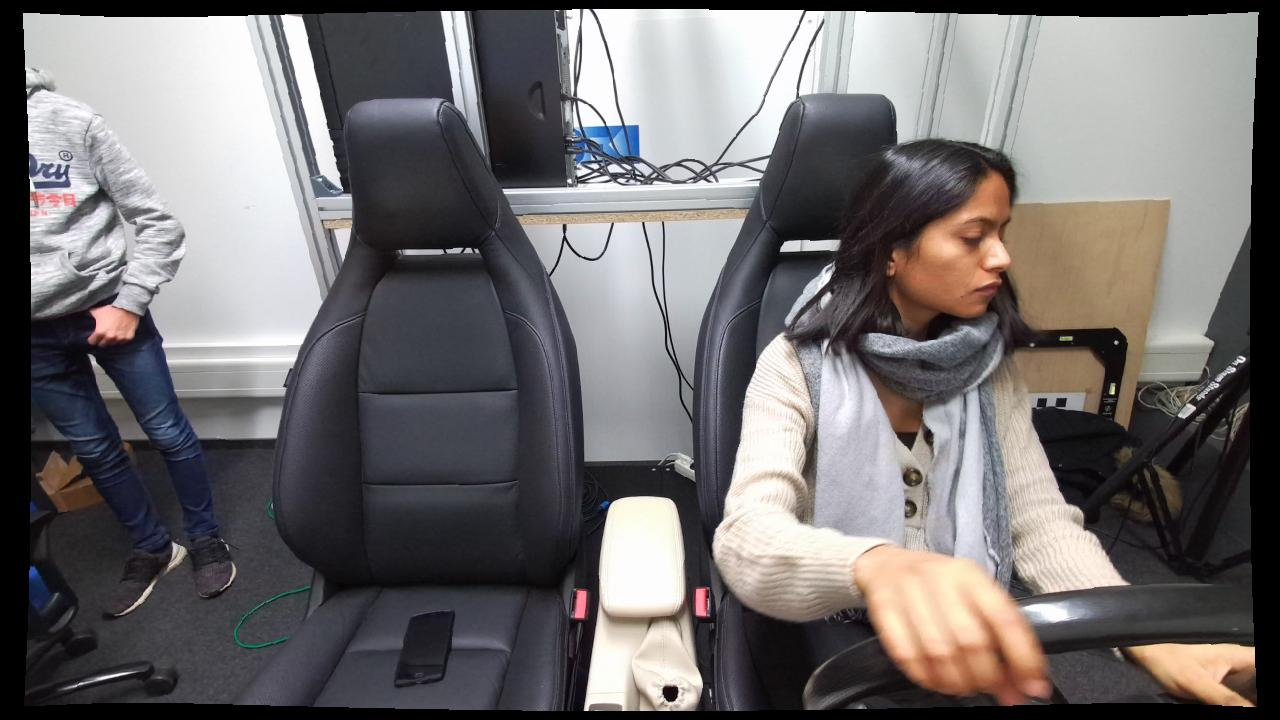Distracted: (705, 131, 1039, 699)
